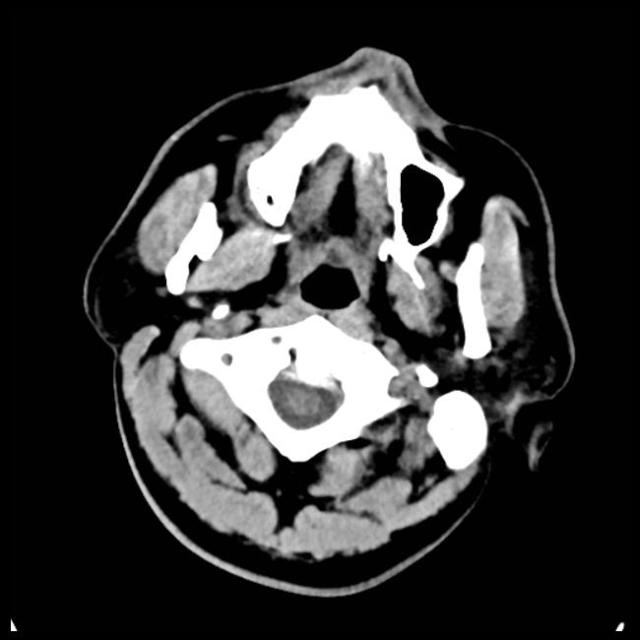lesion: (82, 45, 578, 590)
